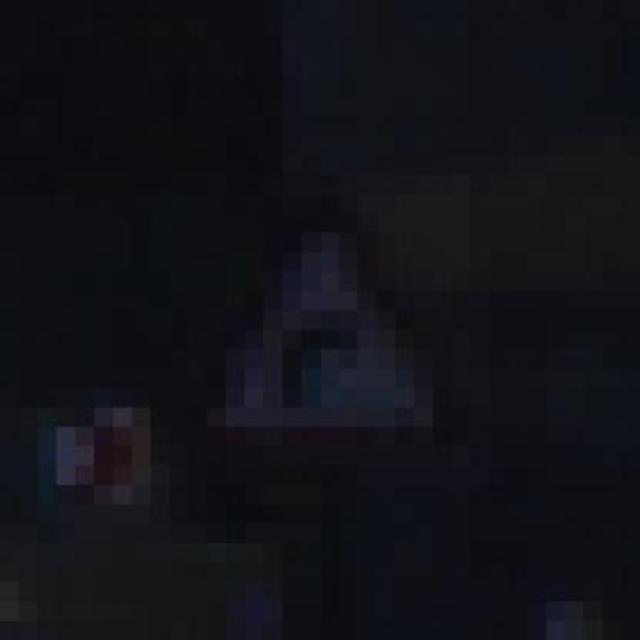Dangerous Rright Curve Ahead: (142, 167, 518, 498)
